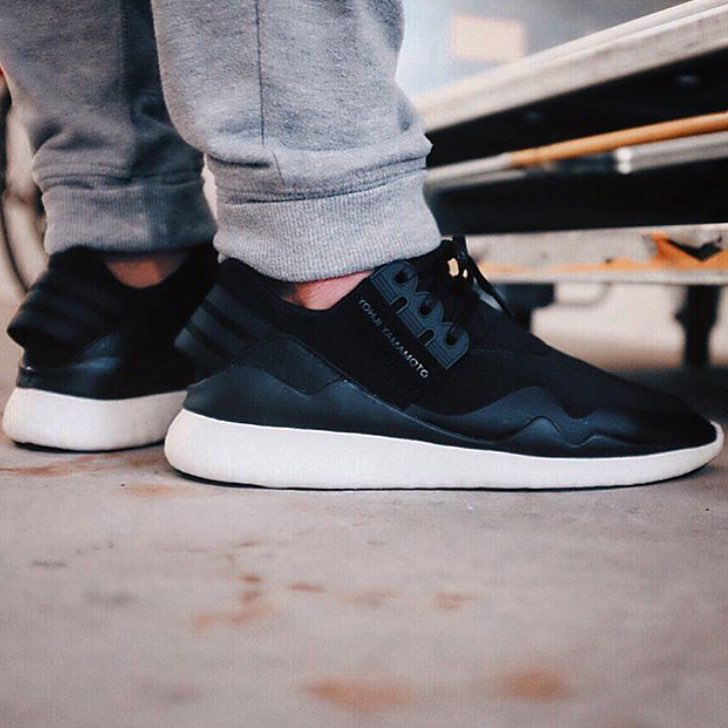sneaker: (132, 206, 728, 516), (1, 221, 237, 480)
